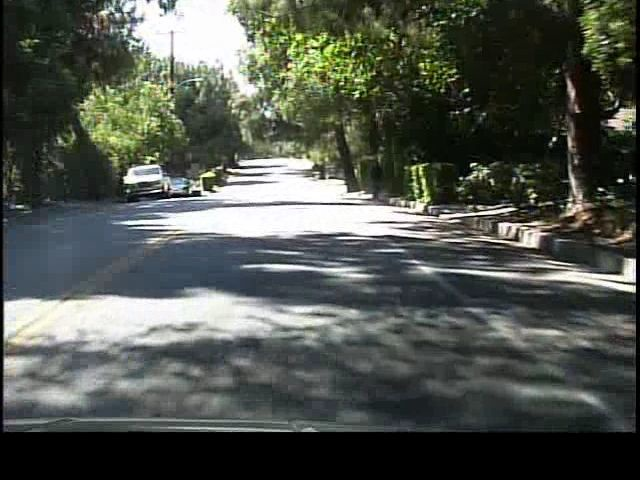person: (368, 155, 387, 204)
